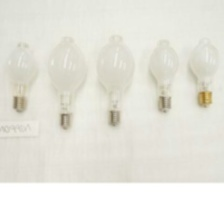light_bulb: (92, 32, 138, 128), (45, 35, 88, 132), (0, 39, 38, 116), (145, 37, 181, 115), (186, 36, 221, 107)
